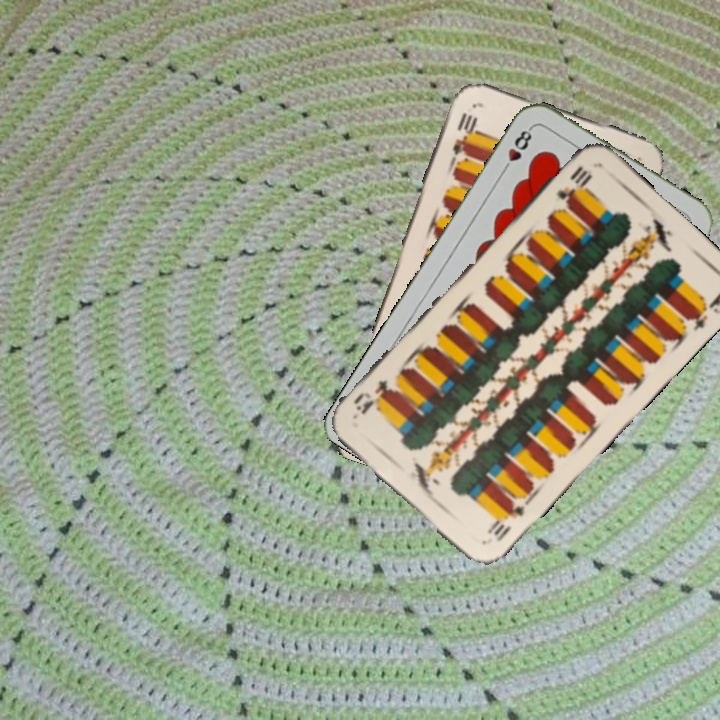E10: (552, 162, 595, 213), (483, 497, 528, 545), (448, 108, 479, 158)
H8: (498, 123, 535, 176)
